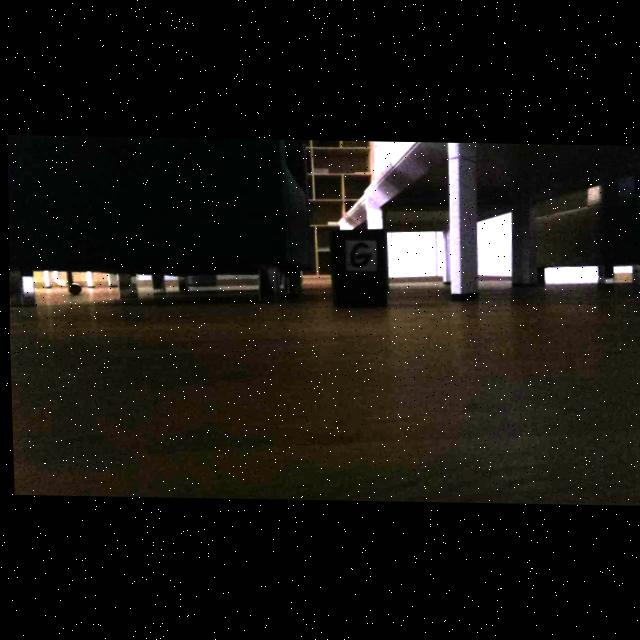G: (349, 242, 368, 267)
